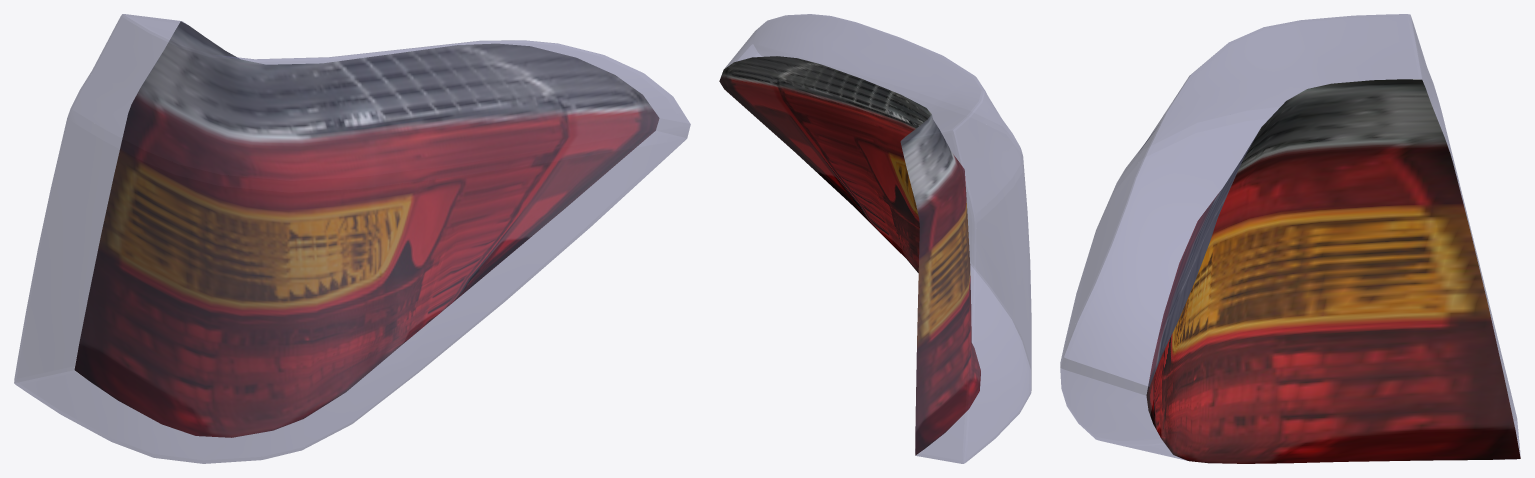
3 views of the same model, side by side, from view 1: azimuth 30°, elevation 25°; view 2: azimuth 150°, elevation 25°; view 3: azimuth 270°, elevation 25° (orthographic). The views are drawn at different scales.
Parts seen in each view (by area): view 1: Y653_541C_R_1_DTaSI_Y653_541C_R, Y653_541C_R_Y653_541C_R_2_N; view 2: Y653_541C_R_1_DTaSI_Y653_541C_R, Y653_541C_R_Y653_541C_R_2_N; view 3: Y653_541C_R_Y653_541C_R_2_N, Y653_541C_R_1_DTaSI_Y653_541C_R.
Boxes of the visible parts, left/top/right/bottom form: Y653_541C_R_1_DTaSI_Y653_541C_R: left=14, top=14, right=690, bottom=463; Y653_541C_R_Y653_541C_R_2_N: left=74, top=21, right=659, bottom=437; Y653_541C_R_1_DTaSI_Y653_541C_R: left=725, top=14, right=1031, bottom=463; Y653_541C_R_Y653_541C_R_2_N: left=719, top=56, right=980, bottom=455; Y653_541C_R_Y653_541C_R_2_N: left=1146, top=79, right=1520, bottom=463; Y653_541C_R_1_DTaSI_Y653_541C_R: left=1060, top=14, right=1520, bottom=460.
Size of the model in its own units: 36.2 by 28.1 by 26.34.
